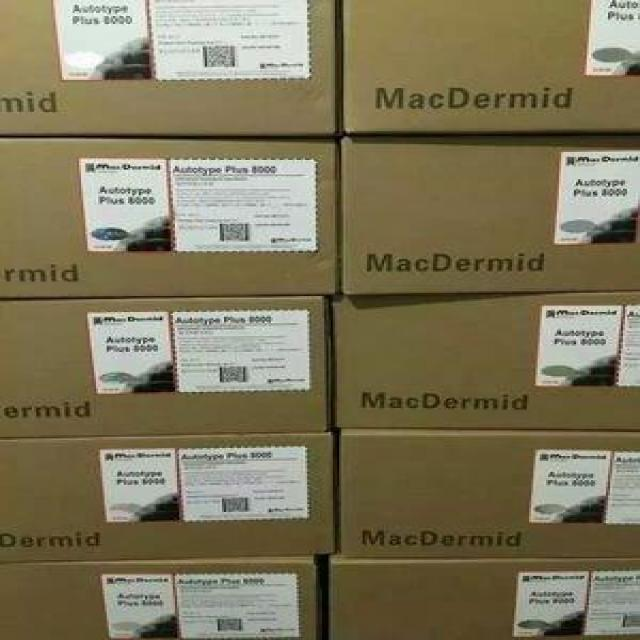box: (0, 139, 343, 299), (0, 0, 339, 146), (335, 138, 640, 296), (0, 296, 337, 436), (0, 433, 342, 563), (335, 290, 640, 434), (335, 0, 640, 138), (331, 426, 640, 556), (315, 548, 640, 640), (0, 552, 328, 640)
